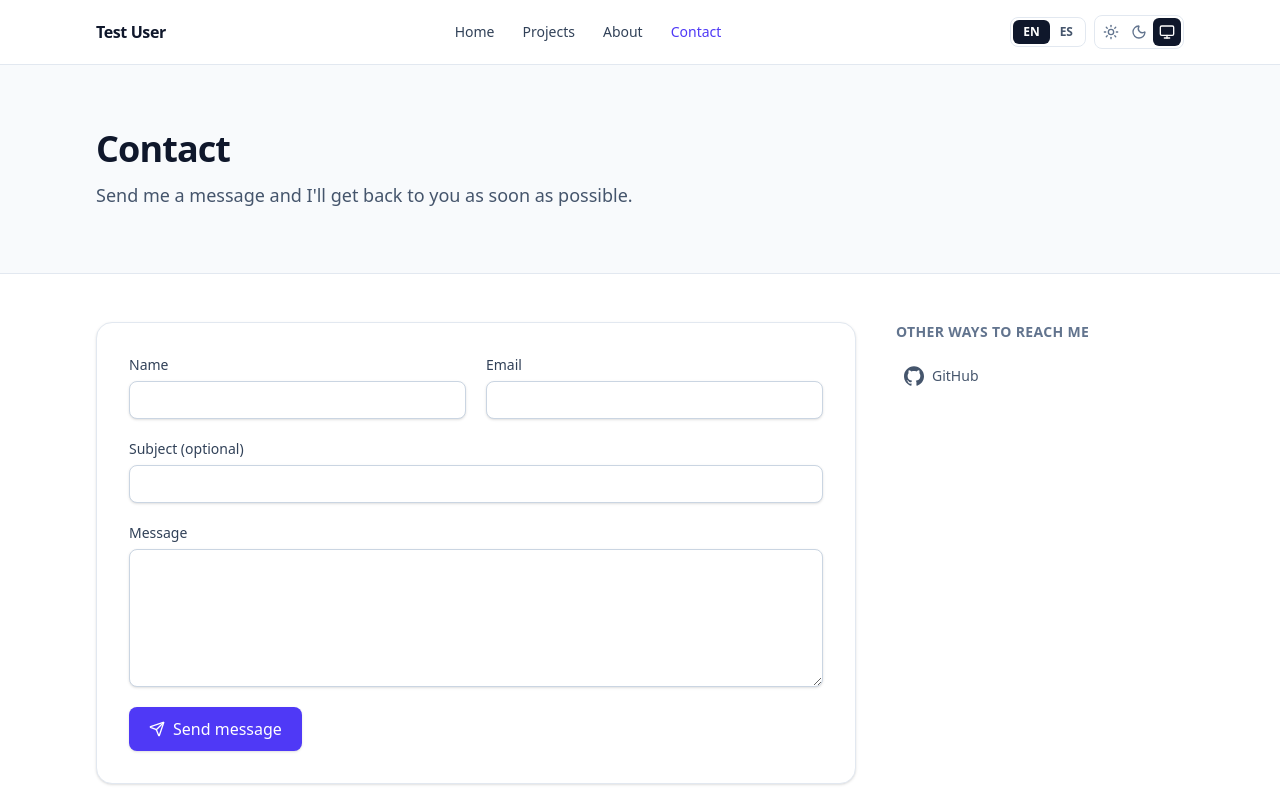
Test case: ContactForm › maps server validation errors to fields
expect the button "Send message" is shown: met, box [129,707,302,751]
Type "Ana" into the field labelled "Name" at (298, 400), box [129,381,466,419]
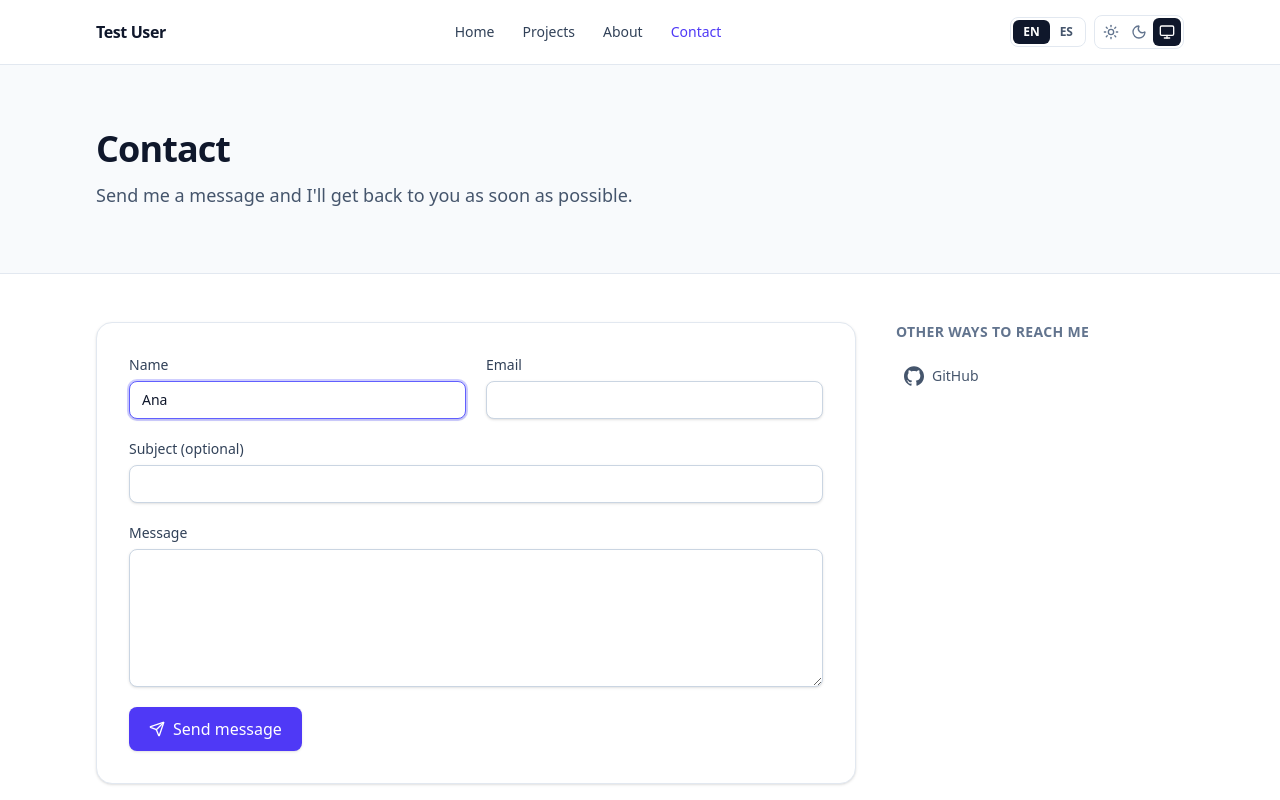
Type "ana@example.com" into the field labelled "Email" at (654, 400), box [486,381,823,419]
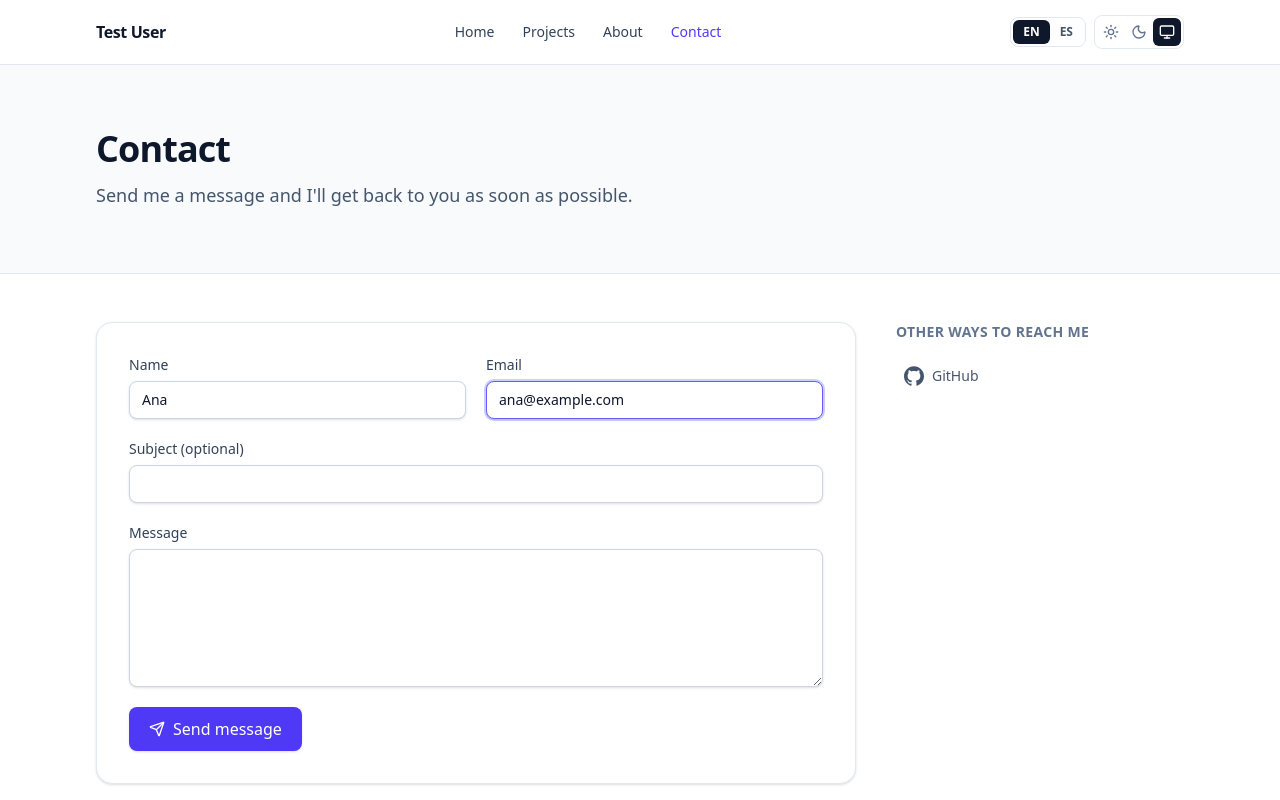
Type "I would like to talk about a project." into the text box labelled "Message" at (476, 618), box [129,549,823,687]
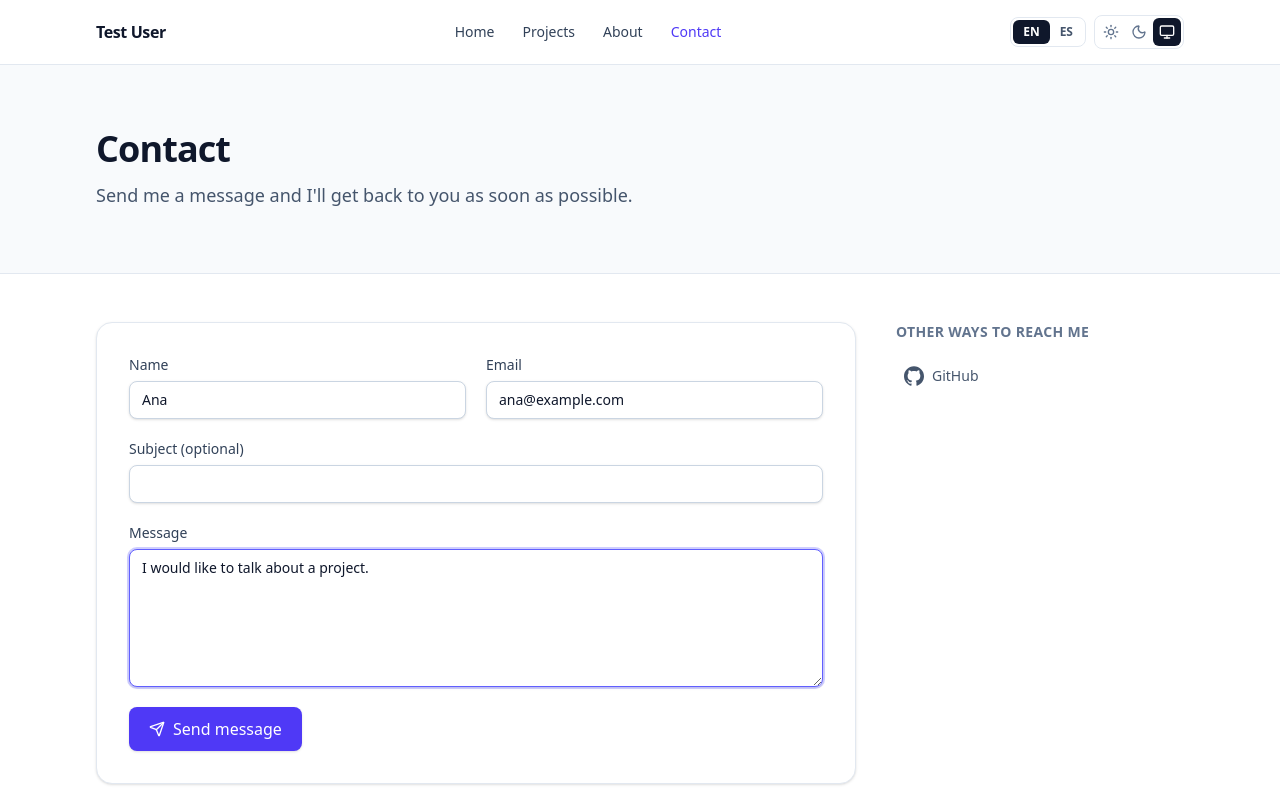
Click the button "Send message" at (215, 729), box [129,707,302,751]
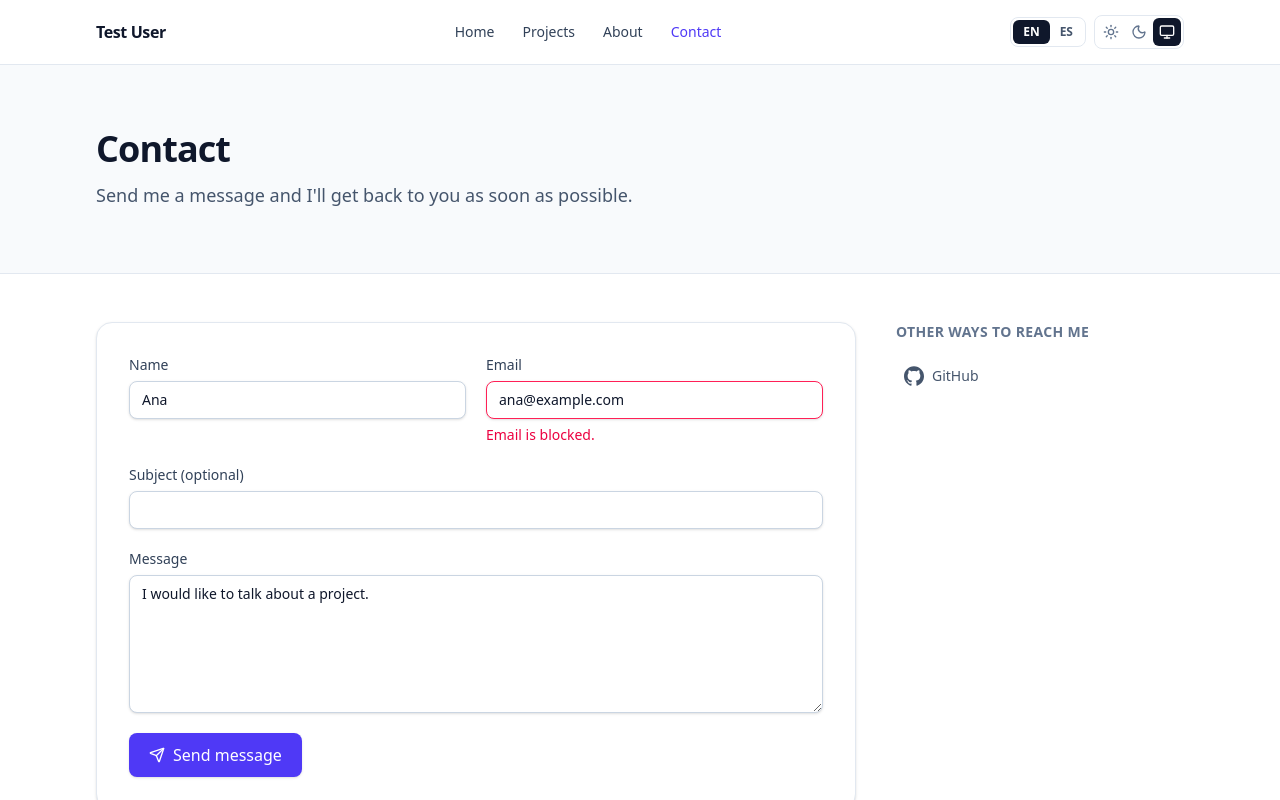
expect the text "Email is blocked." is shown: met, box [486,425,595,444]
